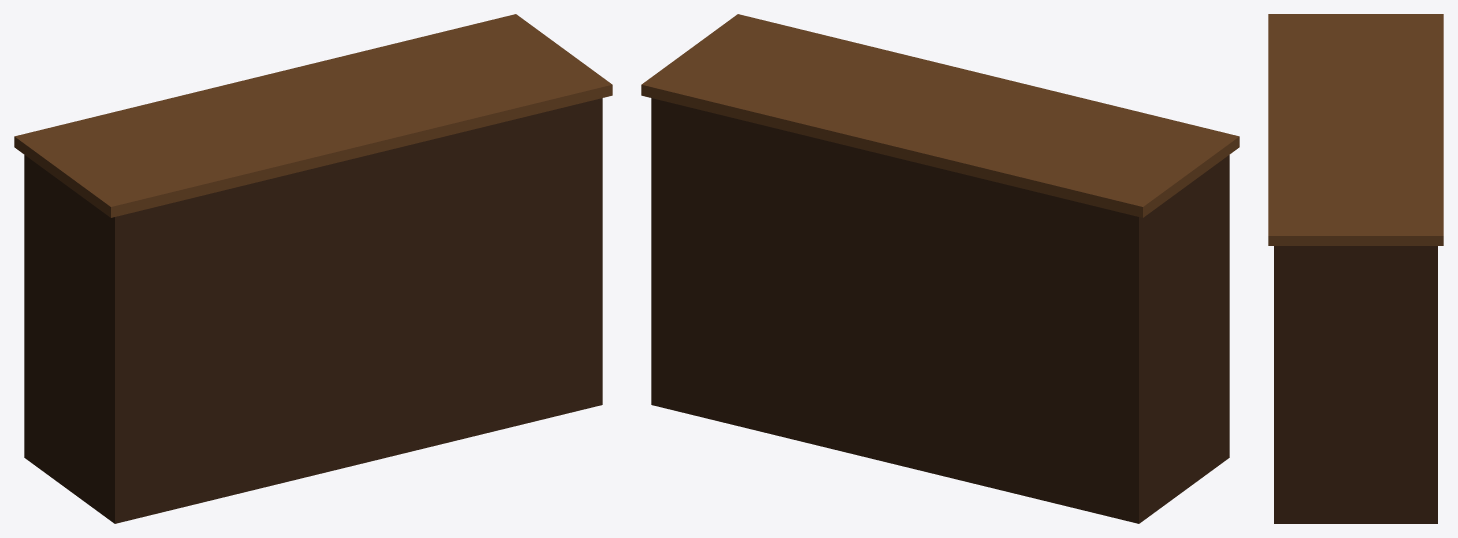
The model's file is sideboard.glb.
3 views of the same model, side by side, from view 1: azimuth 30°, elevation 25°; view 2: azimuth 150°, elevation 25°; view 3: azimuth 270°, elevation 25° (orthographic). The views are drawn at different scales.
Visible parts, largest first — view 1: sideboard; view 2: sideboard; view 3: sideboard.
Boxes of the visible parts, <box> form: sideboard: <box>14,14,612,523</box>; sideboard: <box>641,14,1239,523</box>; sideboard: <box>1268,14,1443,523</box>.
Bounding box in the file's own units: 1.44 × 0.88 × 0.48.
